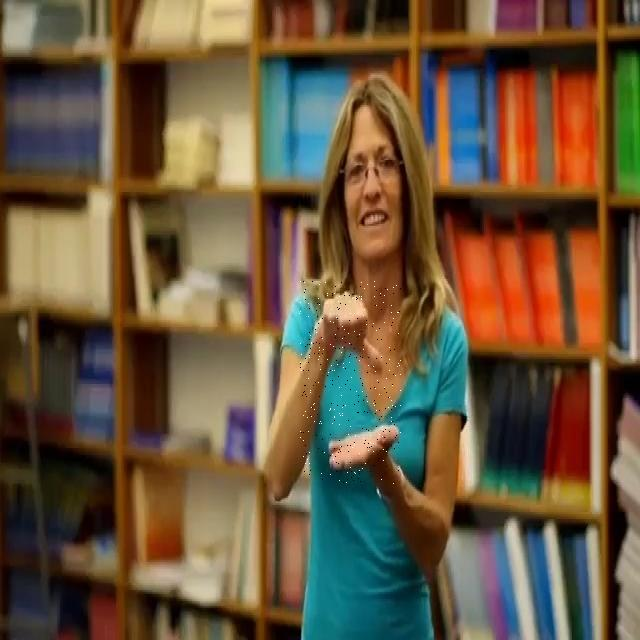sauce: (299, 280, 401, 484)
